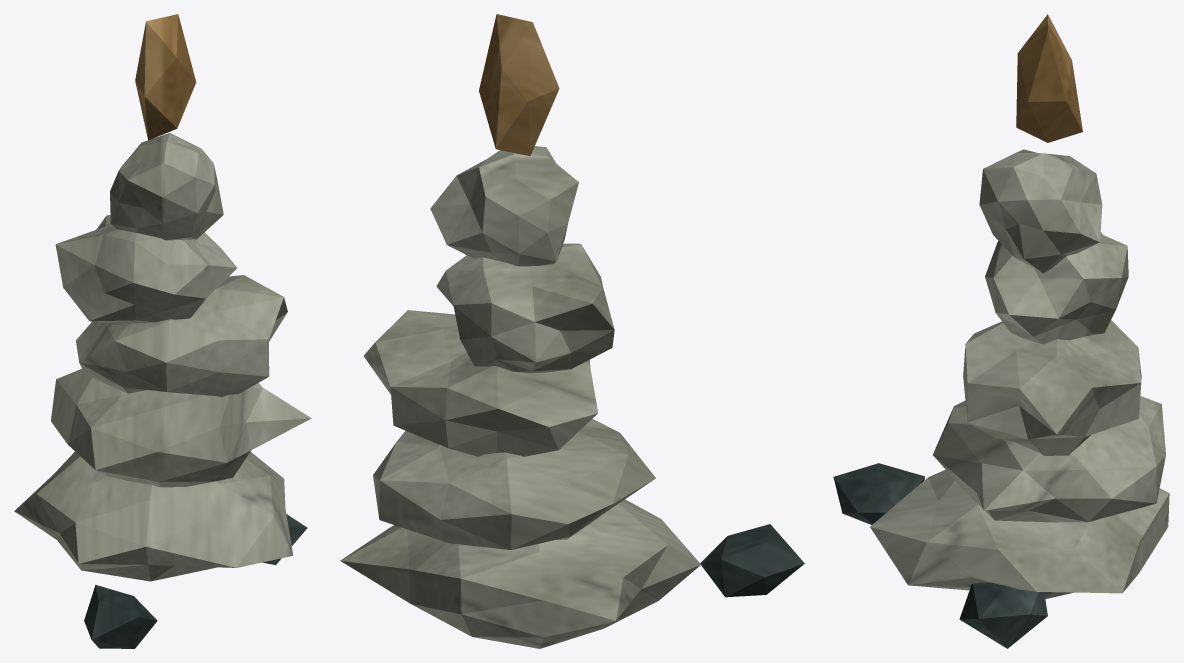
File: 0616_cairn_16.glb
3 renders of one model, left to right at view 1: azimuth 30°, elevation 25°; view 2: azimuth 150°, elevation 25°; view 3: azimuth 270°, elevation 25°, orthographic. The views are drawn at different scales.
Visible parts, largest first — view 1: stone_light, brass, stone_dark; view 2: stone_light, brass, stone_dark; view 3: stone_light, stone_dark, brass.
Boxes of the visible parts, box(x1,y1,x2,y2) form: stone_light: box(14, 133, 311, 581); brass: box(135, 14, 196, 140); stone_dark: box(84, 514, 307, 648); stone_light: box(340, 146, 700, 648); brass: box(479, 14, 559, 156); stone_dark: box(700, 524, 804, 597); stone_light: box(870, 149, 1169, 598); stone_dark: box(833, 463, 1047, 648); brass: box(1016, 14, 1082, 142).
Size of the model in its own units: 1.22 by 2.17 by 1.15.
Materials: 3 (3 with a texture image).
